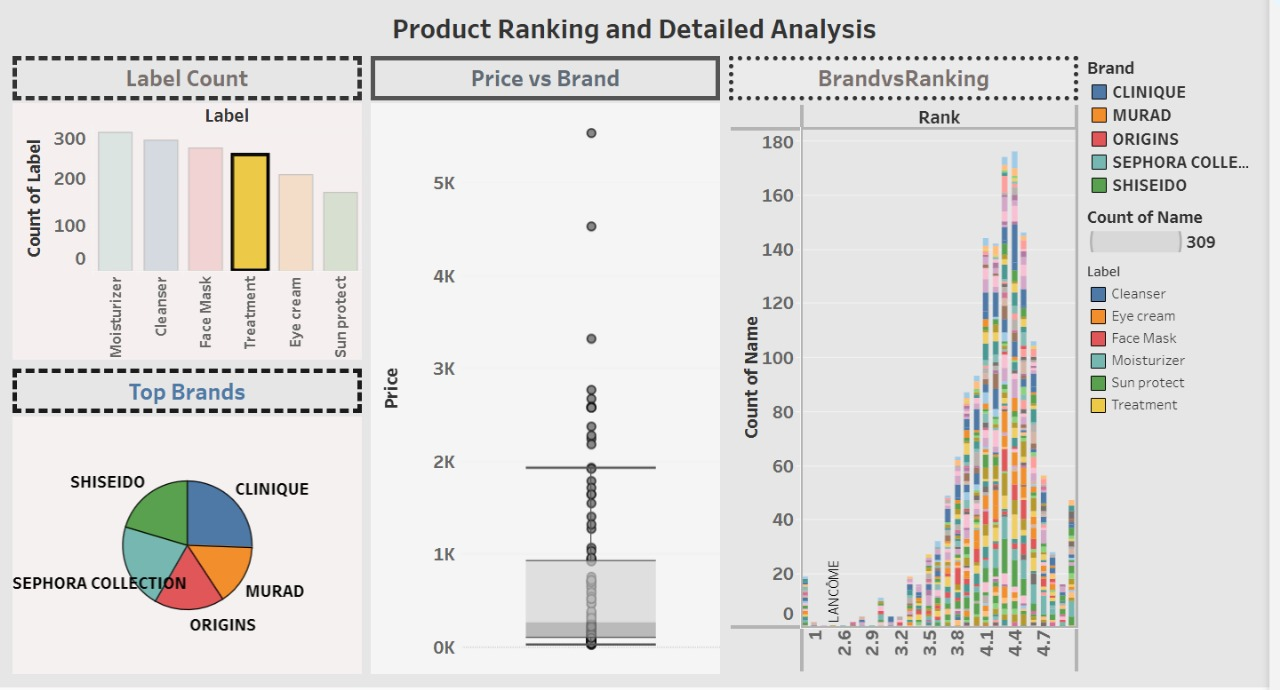

This screenshot's page, from the dashboard's own definition file:
{"tool":"tableau","page":{"name":"Dashboard 1","canvas":[1000,1000],"units":"permille","ordinal":0},"visuals":[{"type":"title","box":[6.9,14.7,986.1,75.4]},{"type":"worksheet","title":"Labelcount belongs to scenario 1 and 3","mark":"Automatic","rows":["Label"],"cols":["Label"],"box":[6.9,90.1,282.5,447.6]},{"type":"worksheet","title":"pricevsbrand belongs to scenario 1 and 3","mark":"Circle","rows":["Price"],"box":[289.4,90.1,282.5,895.2]},{"type":"worksheet","title":"BrandvsRanking belongs to all scenarios","mark":"Bar","rows":["Name"],"cols":["Rank"],"box":[572,90.1,282.6,895.2]},{"type":"legend","title":"top brands belongs to Scenario 1 and 3 ","param":"[federated.186qhqw1r5hyl615t013z1gjae3n].[none:Brand:nk]","box":[854.5,90.1,138.5,248.2]},{"type":"legend","title":"top brands belongs to Scenario 1 and 3 ","param":"[federated.186qhqw1r5hyl615t013z1gjae3n].[cnt:Name:qk]","box":[854.5,338.2,138.5,93.8]},{"type":"legend","title":"Labelcount belongs to scenario 1 and 3","param":"[federated.186qhqw1r5hyl615t013z1gjae3n].[none:Label:nk]","box":[854.5,432,138.5,268.4]},{"type":"worksheet","title":"top brands belongs to Scenario 1 and 3 ","mark":"Pie","box":[6.9,537.7,282.5,447.6]}]}

Visuals, with their boxes on the dashboard's canvas, which has no fixed pixel size, in thousandths of its width and height (x1, y1, x2, y2). These are canvas units, not pixel positions in the 1280x690 screenshot, which may show the page scaled, cropped or inside an application window:
title: crop(7, 15, 993, 90)
"Labelcount belongs to scenario 1 and 3" worksheet: crop(7, 90, 289, 538)
"pricevsbrand belongs to scenario 1 and 3" worksheet (Circle marks): crop(289, 90, 572, 985)
"BrandvsRanking belongs to all scenarios" worksheet (Bar marks): crop(572, 90, 855, 985)
"top brands belongs to Scenario 1 and 3 " legend: crop(854, 90, 993, 338)
"top brands belongs to Scenario 1 and 3 " legend: crop(854, 338, 993, 432)
"Labelcount belongs to scenario 1 and 3" legend: crop(854, 432, 993, 700)
"top brands belongs to Scenario 1 and 3 " worksheet (Pie marks): crop(7, 538, 289, 985)
